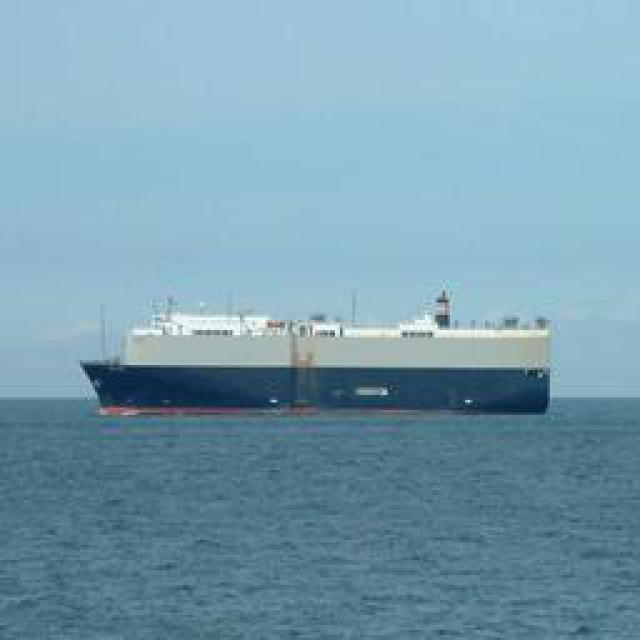Ship: (91, 296, 554, 414)
